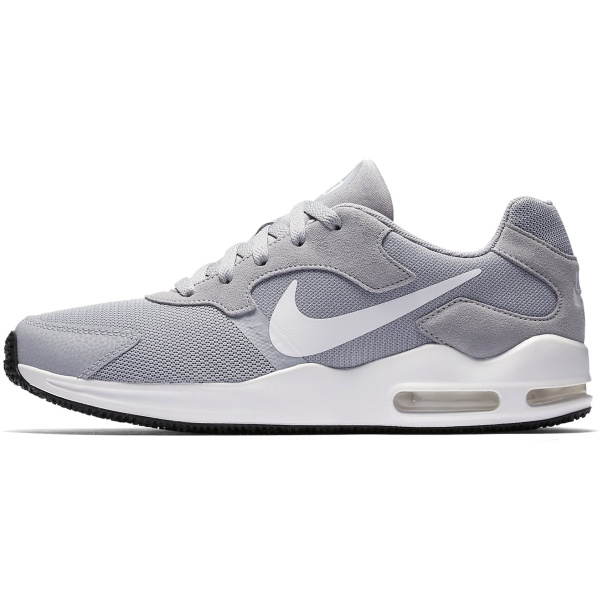nike: (266, 261, 490, 363)
